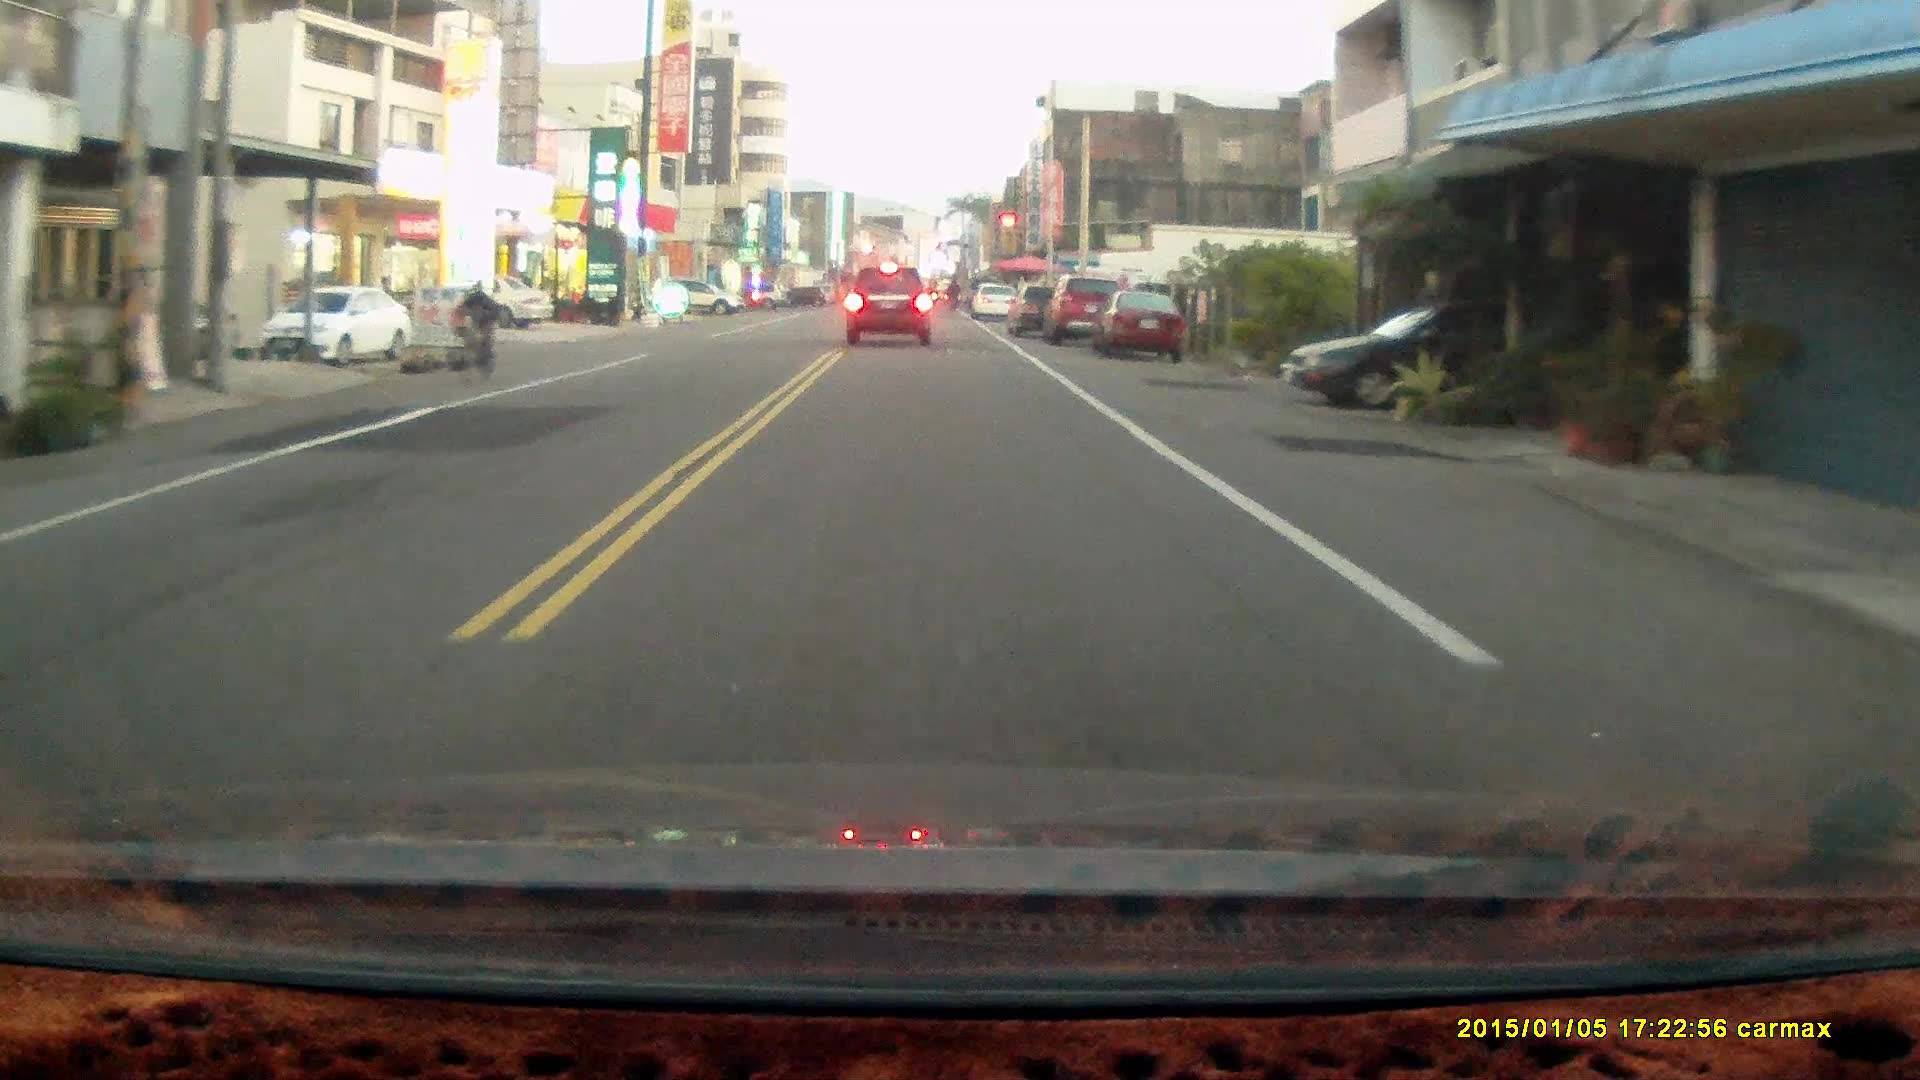rider: (449, 278, 500, 390)
vehicle: (1278, 296, 1651, 412), (260, 291, 410, 372), (412, 279, 558, 337), (1088, 293, 1189, 370), (842, 264, 937, 345), (1045, 276, 1130, 348), (657, 277, 744, 314)
